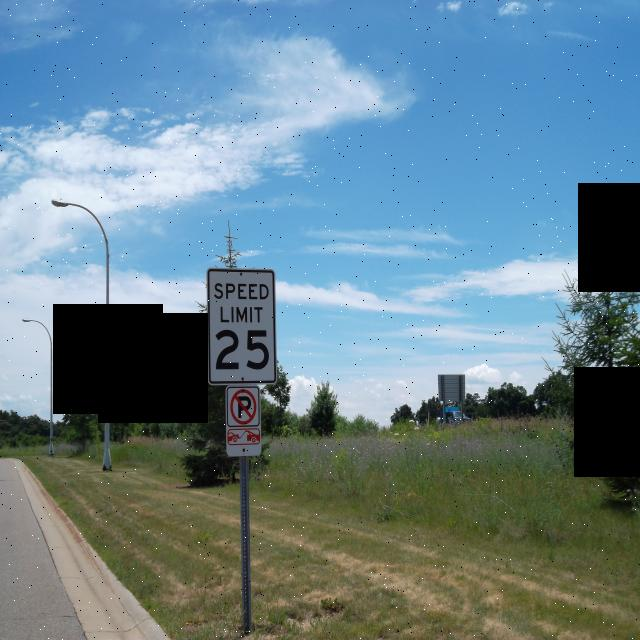regulatory: (205, 263, 277, 385), (224, 380, 261, 457)
